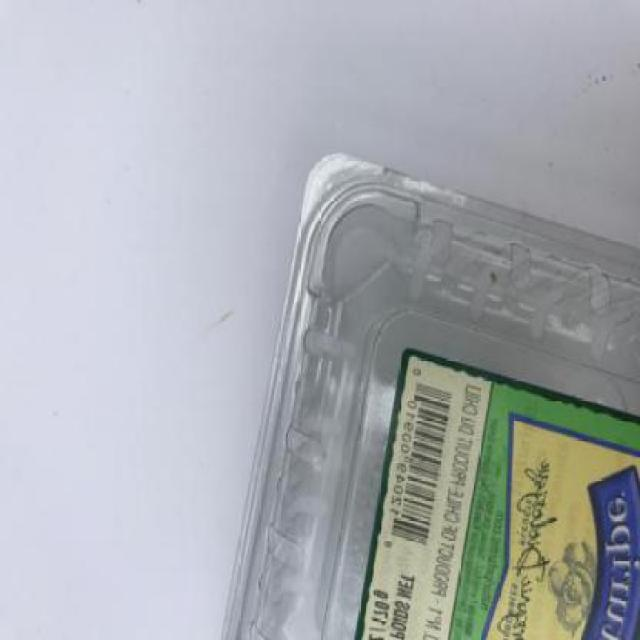PLASTIC: (218, 155, 638, 640)
